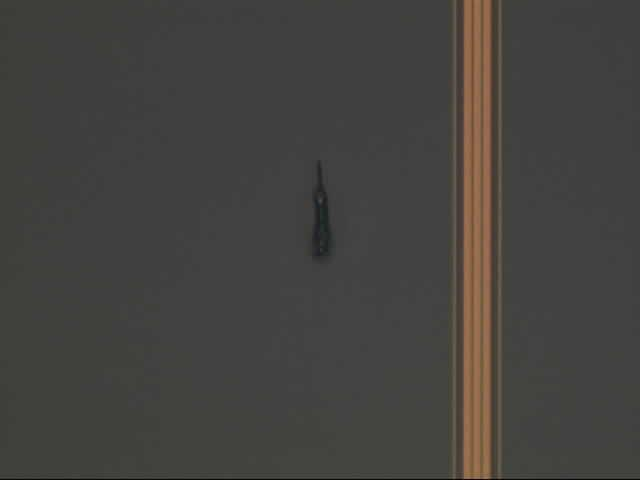PIQ PARTICLE: (310, 154, 335, 264)
